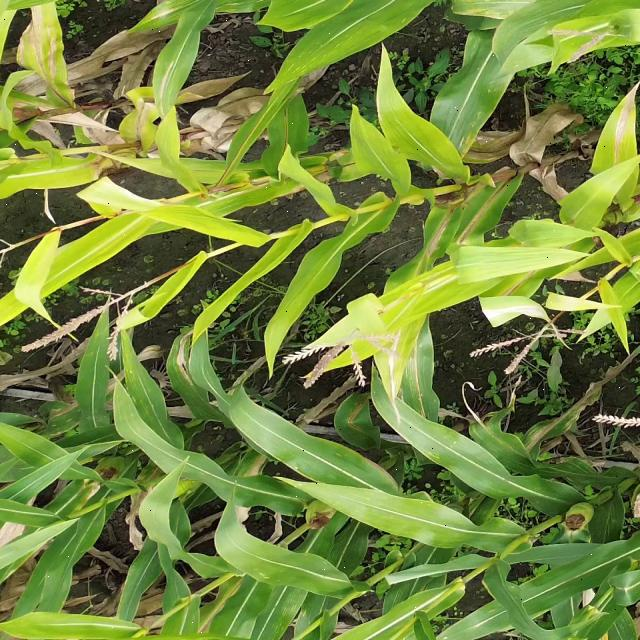gray-leaf-spot: (42, 330, 151, 448), (339, 336, 454, 434), (263, 545, 368, 636), (262, 18, 387, 93), (432, 76, 507, 156)
northern-leaf-blight: (14, 3, 92, 119), (582, 84, 636, 198)
southern-leaf-blight: (416, 420, 558, 510)
